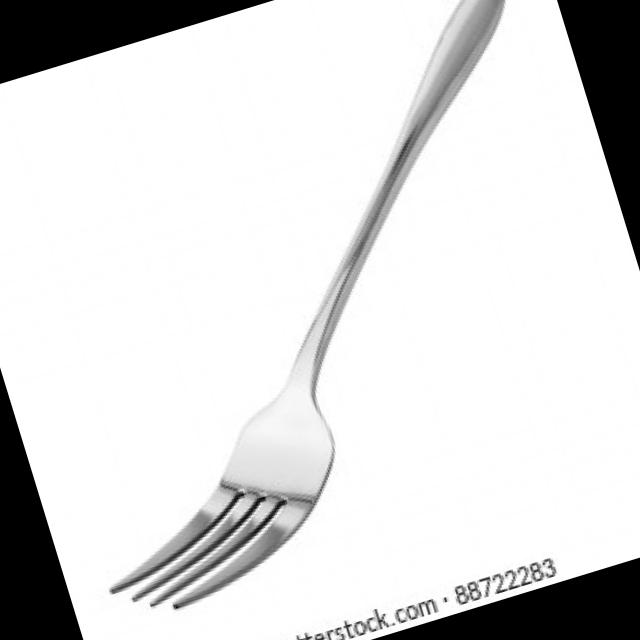fork: (0, 0, 640, 628)
